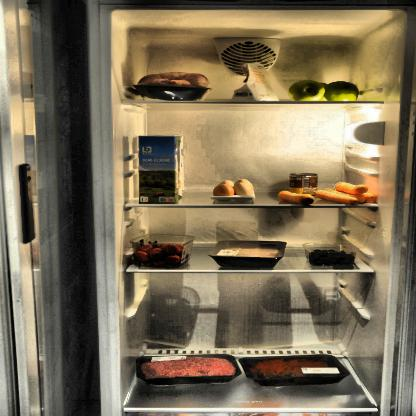apple: (289, 78, 360, 102)
beef: (244, 355, 347, 382)
blueberries: (307, 249, 356, 266)
carrot: (317, 182, 377, 203), (277, 190, 316, 204)
chicken: (136, 72, 210, 102), (212, 243, 282, 264)
corn: (290, 173, 318, 195)
eggs: (212, 179, 258, 200)
ground_beef: (136, 353, 238, 384)
milk: (139, 136, 179, 205)
strawberries: (134, 238, 190, 267)
